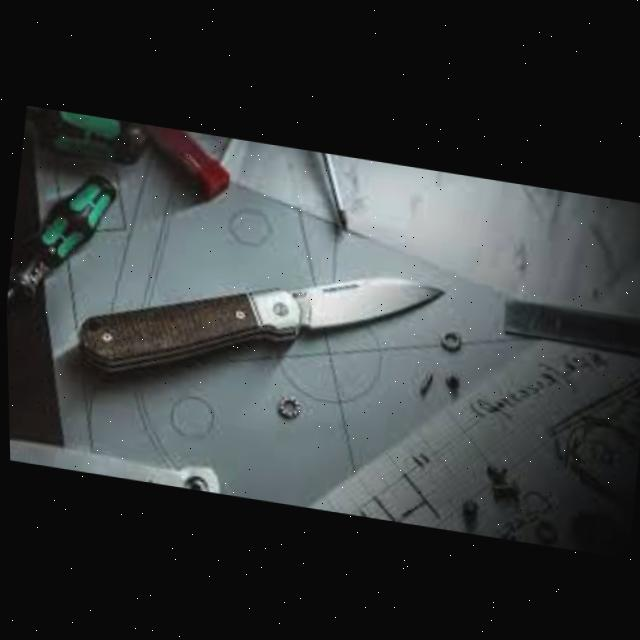Knife: (71, 225, 450, 423)
